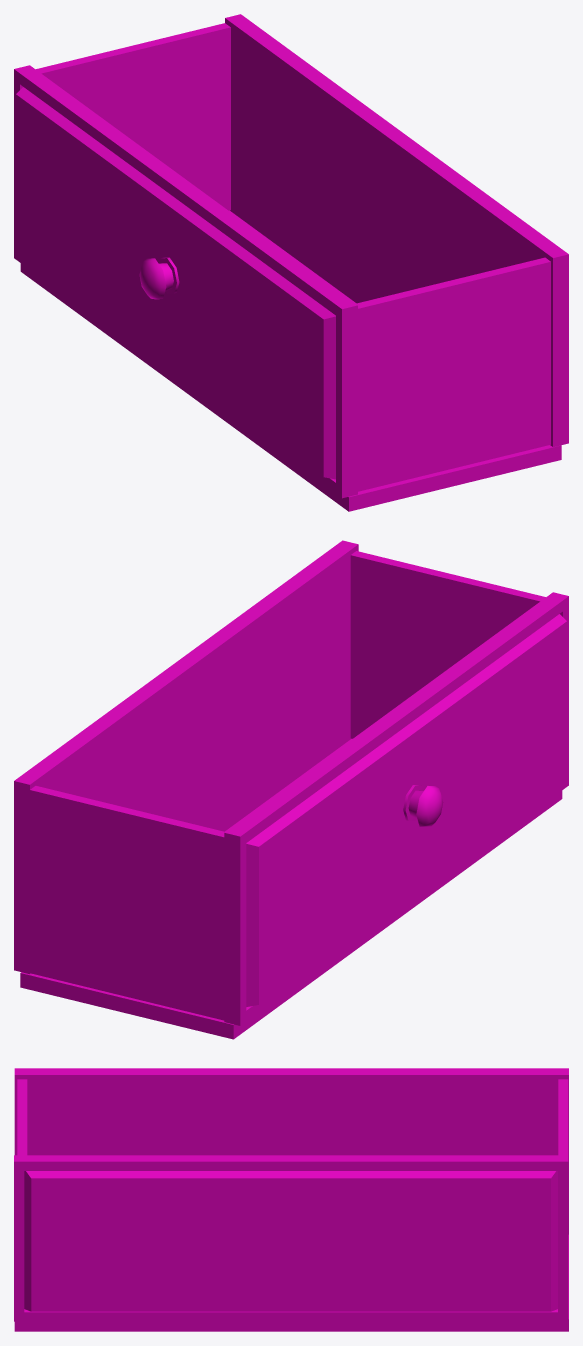
Rendered from Wardrobe_01_Drawer.fbx.
The picture shows the model from 3 angles, top to bottom: view 1: azimuth 30°, elevation 25°; view 2: azimuth 150°, elevation 25°; view 3: azimuth 270°, elevation 25°; orthographic projection. The views are drawn at different scales.
Visible parts, largest first — view 1: Wardrobe_01_Drawer; view 2: Wardrobe_01_Drawer; view 3: Wardrobe_01_Drawer.
Part boxes in pixels (left/top/right/bottom): Wardrobe_01_Drawer: left=14, top=14, right=568, bottom=511; Wardrobe_01_Drawer: left=14, top=540, right=568, bottom=1039; Wardrobe_01_Drawer: left=14, top=1068, right=568, bottom=1331.
Bounding box in the file's own units: 51.61 × 37.5 × 109.
